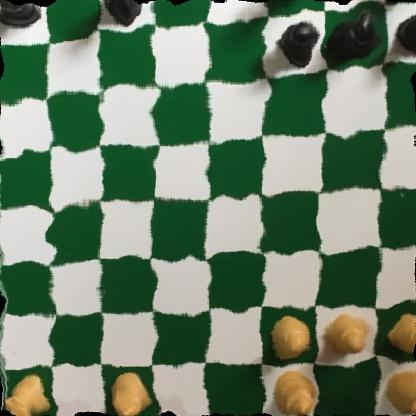black-bishop: (99, 0, 145, 25), (274, 0, 323, 10)
black-pawn: (329, 7, 379, 64), (274, 17, 323, 68), (390, 3, 416, 56)
black-rook: (0, 0, 45, 33)
white-bishop: (269, 370, 319, 416), (111, 369, 153, 416)
white-pawn: (323, 314, 370, 358), (268, 314, 311, 360), (387, 313, 416, 353)
white-rook: (0, 373, 51, 416), (383, 363, 416, 416)
